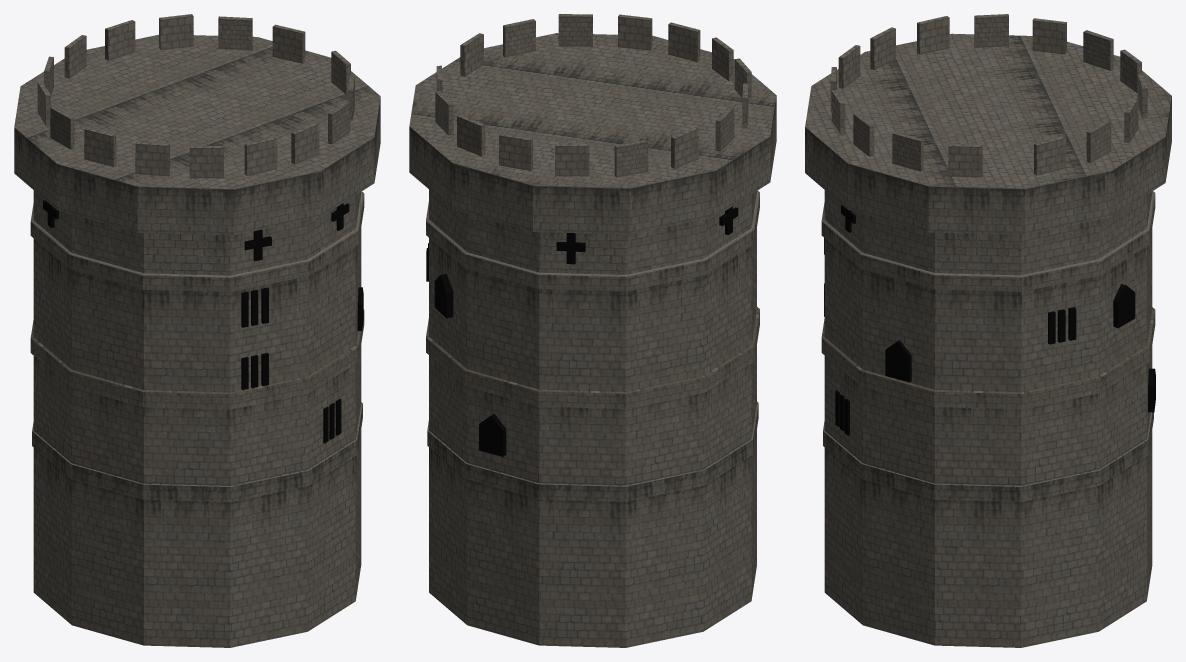
File: Castle_Centre.glb
3 renders of one model, left to right at view 1: azimuth 30°, elevation 25°; view 2: azimuth 150°, elevation 25°; view 3: azimuth 270°, elevation 25°, orthographic.
Visible parts, largest first — view 1: SM_Castle_Centre; view 2: SM_Castle_Centre; view 3: SM_Castle_Centre.
Part boxes in pixels (left/top/right/bottom): SM_Castle_Centre: left=14, top=14, right=380, bottom=647; SM_Castle_Centre: left=409, top=14, right=776, bottom=647; SM_Castle_Centre: left=805, top=14, right=1171, bottom=647.
Size of the model in its own units: 31.52 by 47.19 by 31.52.
Materials: 2 (1 with a texture image).
